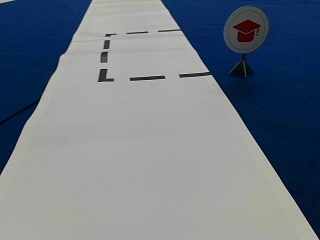school: (223, 6, 269, 53)
